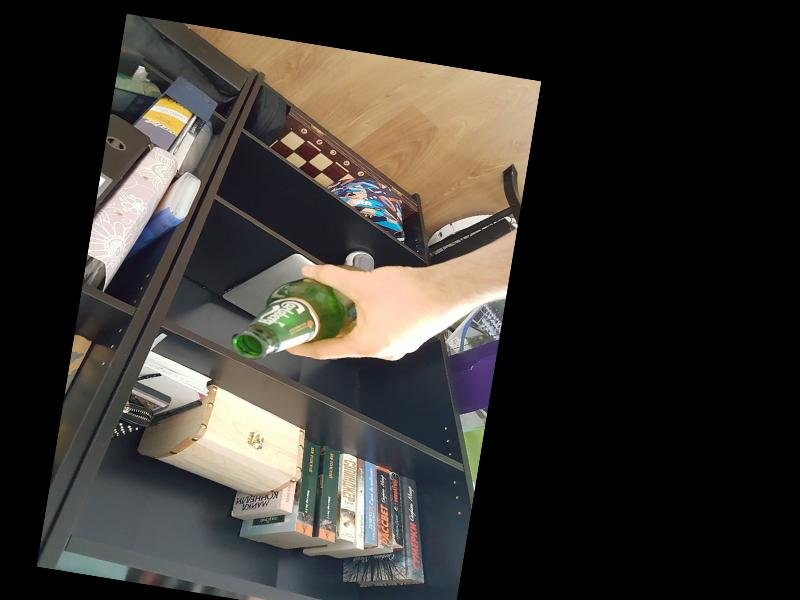Beer: (228, 248, 372, 374)
